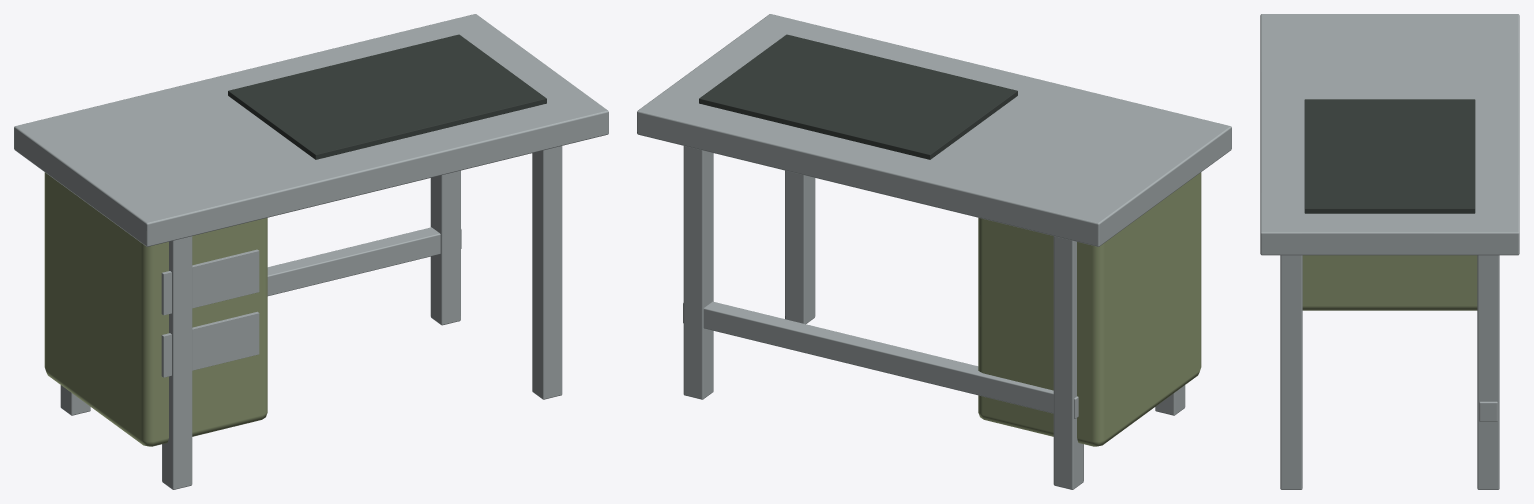
File: research-and-crafting-progression-precision-research-b-72eeab4c__2834.glb
The picture shows the model from 3 angles, left to right: view 1: azimuth 30°, elevation 25°; view 2: azimuth 150°, elevation 25°; view 3: azimuth 270°, elevation 25°; orthographic projection. The views are drawn at different scales.
Parts seen in each view (by area): view 1: precision-research-bench, drawer/metal, drawer-low/metal; view 2: precision-research-bench; view 3: precision-research-bench.
Boxes of the visible parts, box(x1,y1,x2,y2) form: precision-research-bench: box(14, 14, 608, 489); drawer/metal: box(161, 249, 259, 315); drawer-low/metal: box(161, 311, 259, 377); precision-research-bench: box(637, 14, 1231, 489); precision-research-bench: box(1260, 14, 1519, 489).
Size of the model in its own units: 1.4 by 0.8351 by 0.7001.
